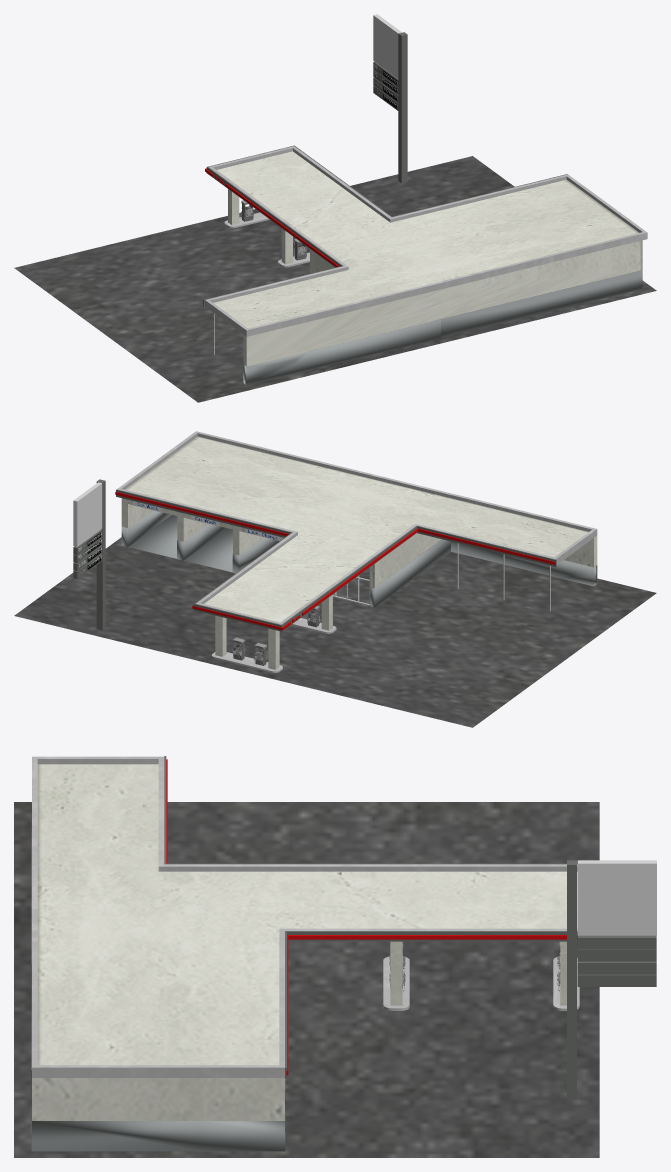
File: gas_station.glb
3 views of the same model, one above another, from view 1: azimuth 30°, elevation 25°; view 2: azimuth 150°, elevation 25°; view 3: azimuth 270°, elevation 25° (orthographic). The views are drawn at different scales.
Parts seen in each view (by area): view 1: gas_station; view 2: gas_station; view 3: gas_station.
Boxes of the visible parts, left/top/right/bottom form: gas_station: left=14, top=14, right=656, bottom=402; gas_station: left=14, top=431, right=656, bottom=727; gas_station: left=14, top=756, right=656, bottom=1157.
Size of the model in its own units: 34 by 10.51 by 25.96.
Materials: 1 (1 with a texture image).
